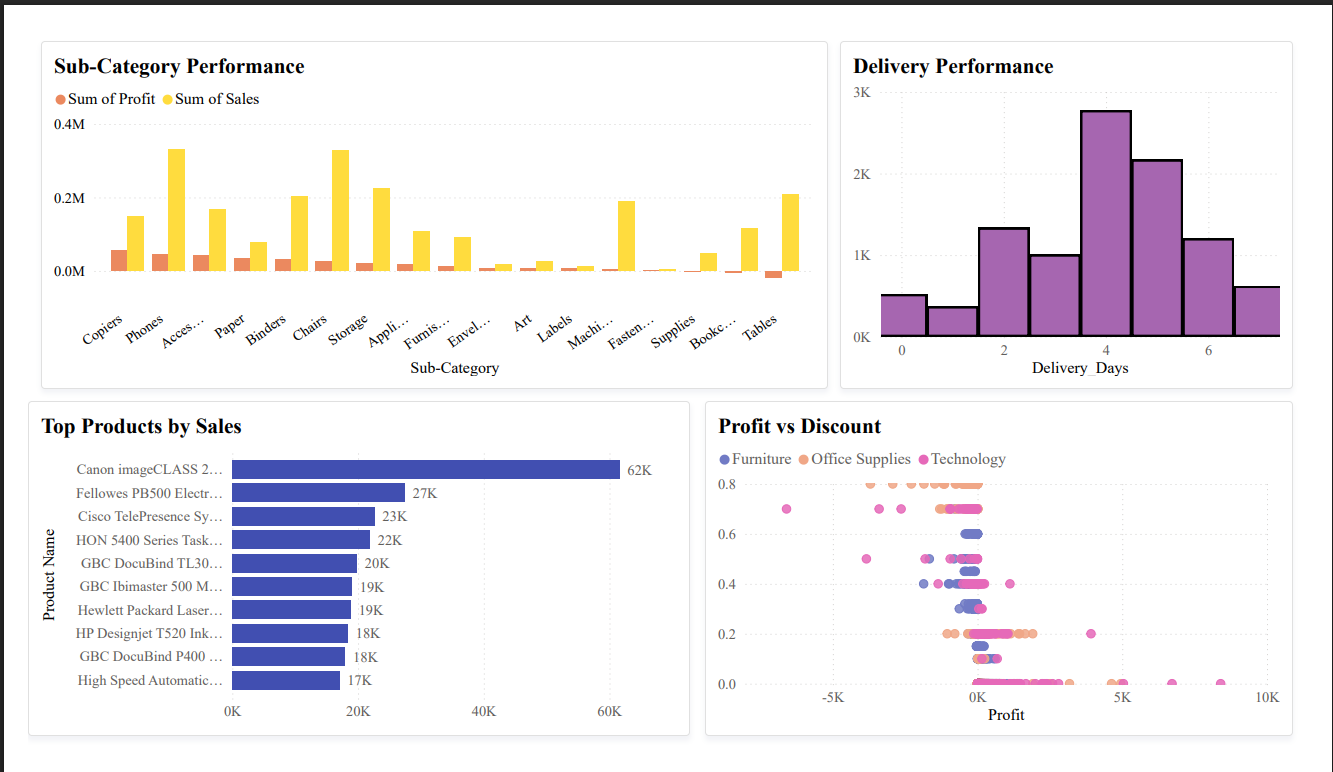

The dashboard page shown, as its layout file describes it:
{"tool":"powerbi","page":{"name":"Page 2","canvas":[1280,720],"ordinal":1},"visuals":[{"type":"clusteredBarChart","title":"Top Products by Sales","fields":{"Category":["cleaned_data.Product Name"],"Y":["Sum(cleaned_data.Sales)"]},"box":[0,371.7,661.7,335],"z":0},{"type":"scatterChart","title":"Profit vs Discount","fields":{"X":["cleaned_data.Profit"],"Y":["cleaned_data.Discount"],"Series":["cleaned_data.Category"]},"box":[676.7,371.7,588.3,335],"z":1000},{"type":"clusteredColumnChart","title":"Sub-Category Performance","fields":{"Category":["cleaned_data.Sub-Category"],"Y":["Sum(cleaned_data.Profit)","Sum(cleaned_data.Sales)"]},"box":[13.3,11.7,786.7,348.3],"z":2000},{"type":"clusteredColumnChart","title":"Delivery Performance","fields":{"Category":["cleaned_data.Delivery_Days (bins)"],"Y":["CountNonNull(cleaned_data.Order ID)"]},"box":[811.7,11.7,453.3,348.3],"z":3000}]}

Visuals, with their boxes in screenshot pixels (x1, y1, x2, y2), scaled from the page's 1280x720 canvas onto the 1333x772 screenshot:
"Top Products by Sales" clusteredBarChart: select_region(0, 399, 689, 758)
"Profit vs Discount" scatterChart: select_region(705, 399, 1317, 758)
"Sub-Category Performance" clusteredColumnChart: select_region(14, 13, 833, 386)
"Delivery Performance" clusteredColumnChart: select_region(845, 13, 1317, 386)
